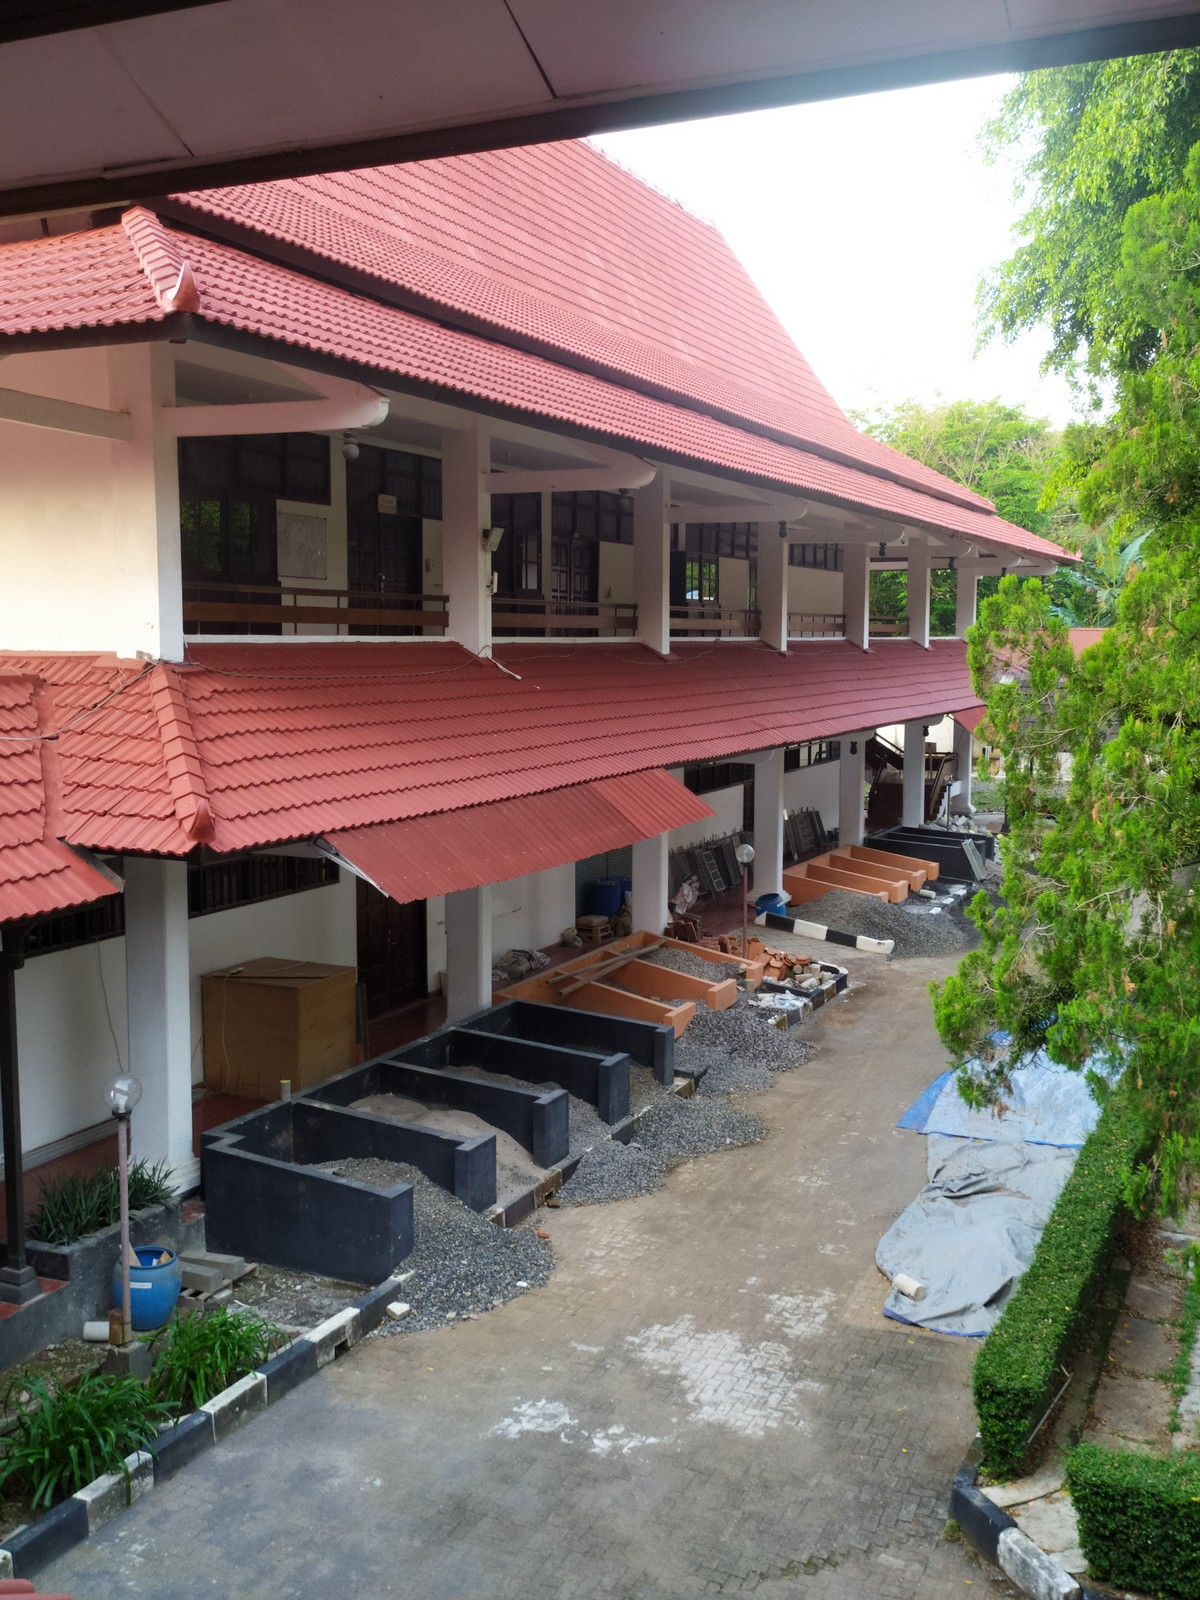concrete beam: (154, 396, 344, 443), (465, 459, 626, 501)
concrete column: (101, 343, 200, 677), (113, 847, 203, 1184), (434, 413, 503, 663), (439, 881, 499, 1020), (634, 475, 679, 658), (749, 745, 792, 907), (625, 838, 676, 939)
